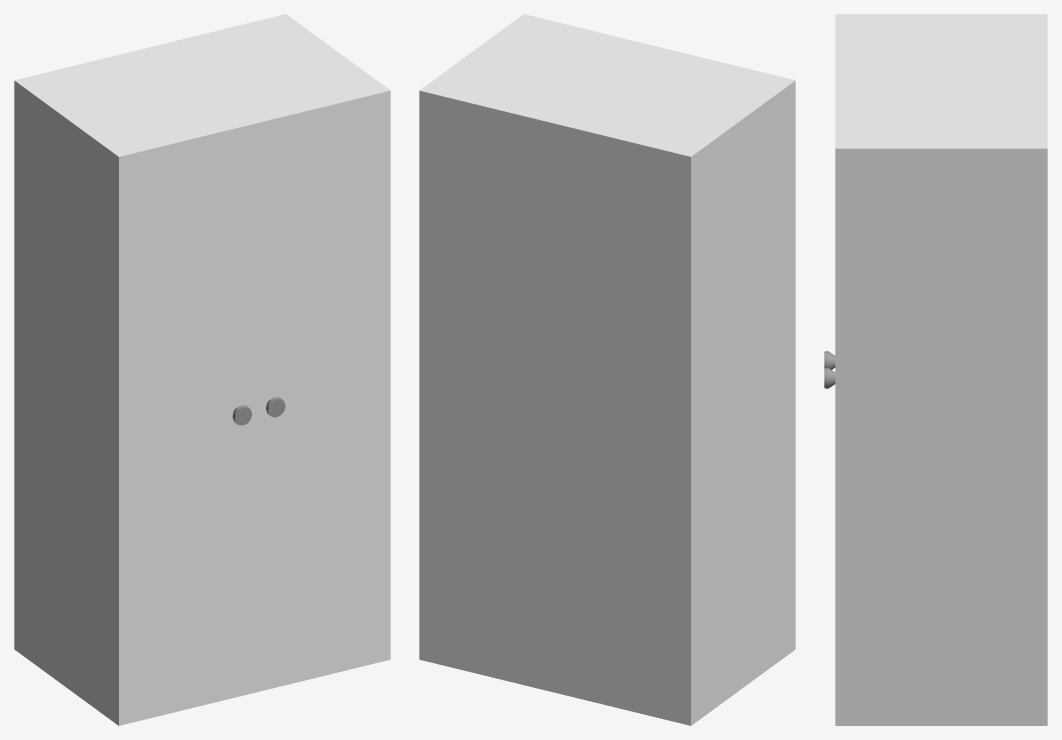
File: closet1_modern.glb
3 views of the same model, side by side, from view 1: azimuth 30°, elevation 25°; view 2: azimuth 150°, elevation 25°; view 3: azimuth 270°, elevation 25° (orthographic).
Visible parts, largest first — view 1: Box002; view 2: Box002; view 3: Box002.
Boxes of the visible parts, x1=… form: Box002: x1=14, y1=14, x2=390, y2=725; Box002: x1=419, y1=14, x2=795, y2=725; Box002: x1=824, y1=14, x2=1047, y2=725.
Bounding box in the file's own units: 0.12 × 0.24 × 0.0842.
1 material, 1 textured.
